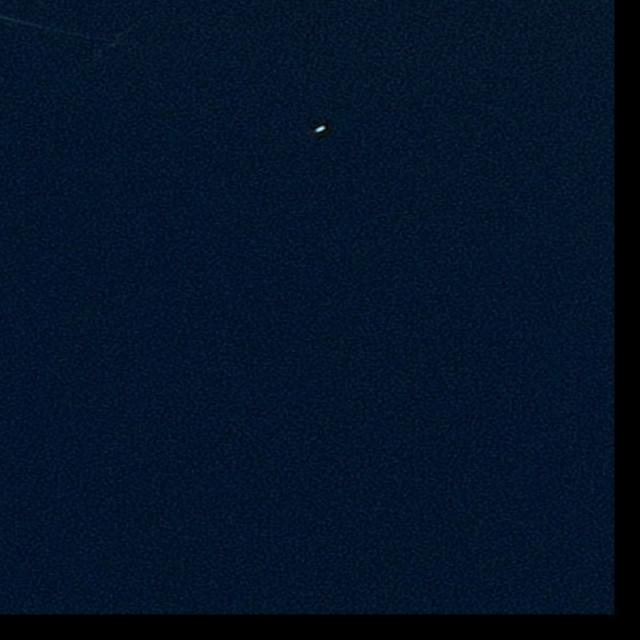ship: (314, 124, 327, 134)
